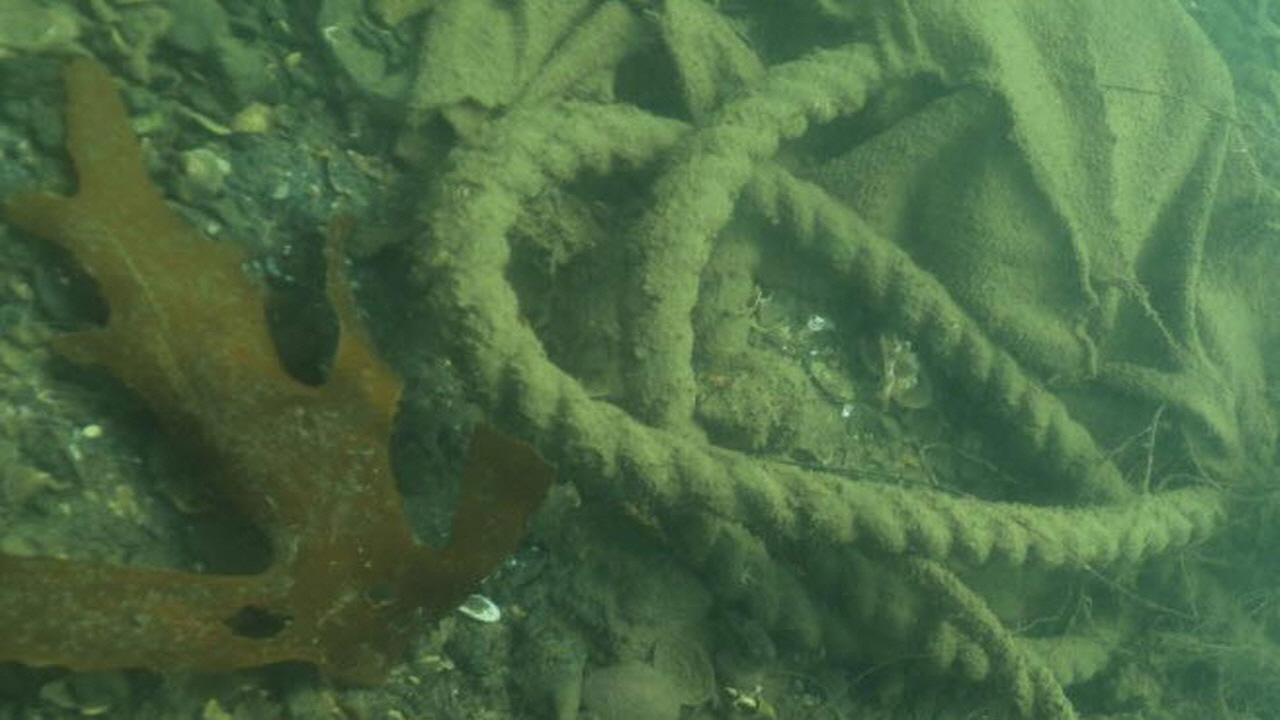bundle of ropes: (407, 40, 1231, 719)
